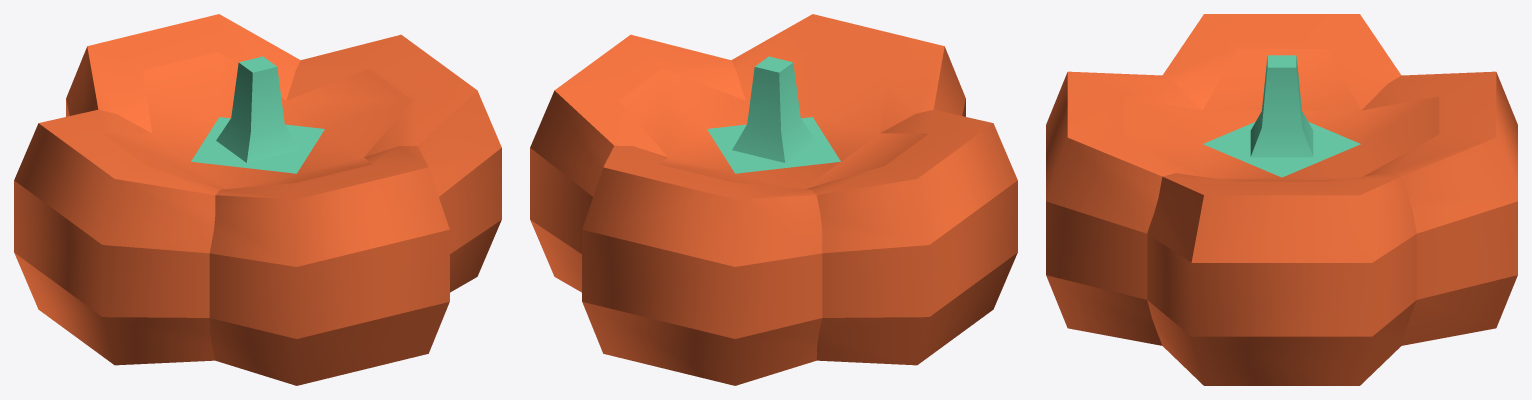
Rendered from pumpkin.dae.
3 renders of one model, left to right at view 1: azimuth 30°, elevation 25°; view 2: azimuth 150°, elevation 25°; view 3: azimuth 270°, elevation 25°, orthographic. The views are drawn at different scales.
Parts seen in each view (by area): view 1: pumpkin; view 2: pumpkin; view 3: pumpkin.
Boxes of the visible parts, <box> form: pumpkin: <box>14,14,501,385</box>; pumpkin: <box>530,14,1017,385</box>; pumpkin: <box>1046,14,1517,385</box>.
Bounding box in the file's own units: 0.4189 × 0.2291 × 0.4189.
